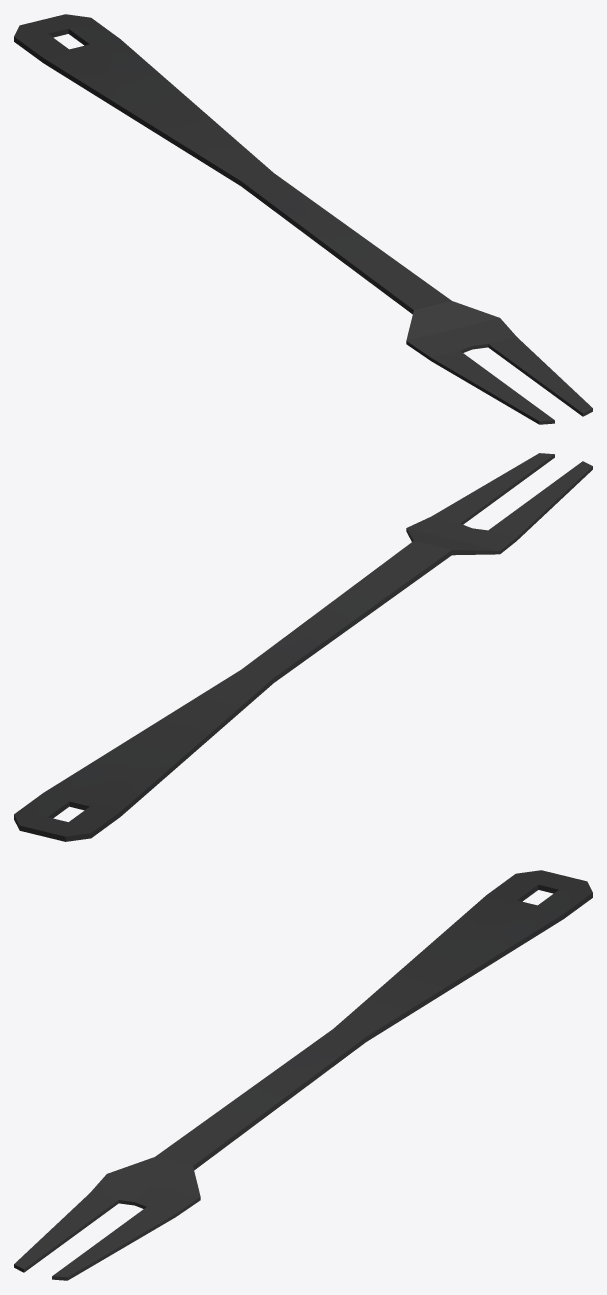
Rendered from Carving Fork.fbx.
3 renders of one model, top to bottom at view 1: azimuth 30°, elevation 25°; view 2: azimuth 150°, elevation 25°; view 3: azimuth 330°, elevation 25°, orthographic.
Visible parts, largest first — view 1: Carving Fork; view 2: Carving Fork; view 3: Carving Fork.
Boxes of the visible parts, x1=… form: Carving Fork: x1=14, y1=14, x2=592, y2=424; Carving Fork: x1=14, y1=453, x2=592, y2=841; Carving Fork: x1=14, y1=870, x2=592, y2=1280.
Bounding box in the file's own units: 3.08 × 0.4777 × 29.98.
